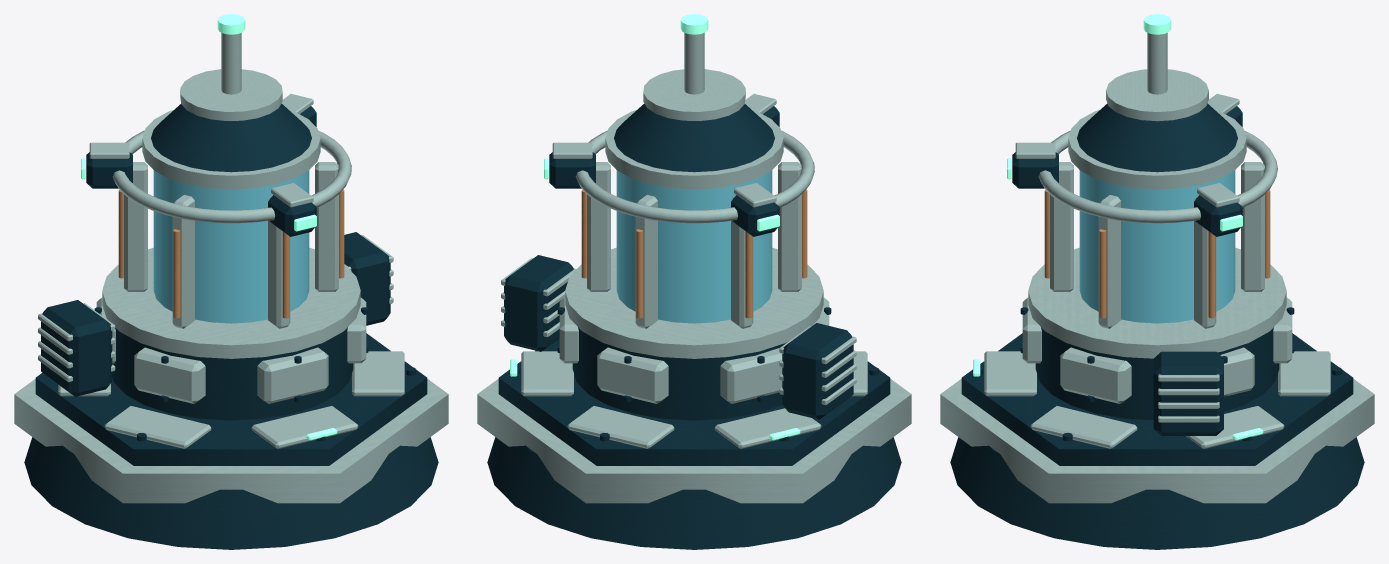
File: lab.glb
The picture shows the model from 3 angles, left to right: view 1: azimuth 30°, elevation 25°; view 2: azimuth 150°, elevation 25°; view 3: azimuth 270°, elevation 25°; orthographic projection.
Parts seen in each view (by area): view 1: DetailedIndustrialHull, ResearchInstrumentRing; view 2: DetailedIndustrialHull, ResearchInstrumentRing; view 3: DetailedIndustrialHull, ResearchInstrumentRing.
Boxes of the visible parts, box(x1,y1,x2,y2) form: DetailedIndustrialHull: box(14, 14, 448, 549); ResearchInstrumentRing: box(81, 94, 351, 236); DetailedIndustrialHull: box(477, 14, 911, 549); ResearchInstrumentRing: box(544, 94, 814, 236); DetailedIndustrialHull: box(940, 14, 1374, 549); ResearchInstrumentRing: box(1007, 94, 1277, 236).
Bounding box in the file's own units: 0.33 × 0.389 × 0.346.
Materials: 1 (1 with a texture image).
